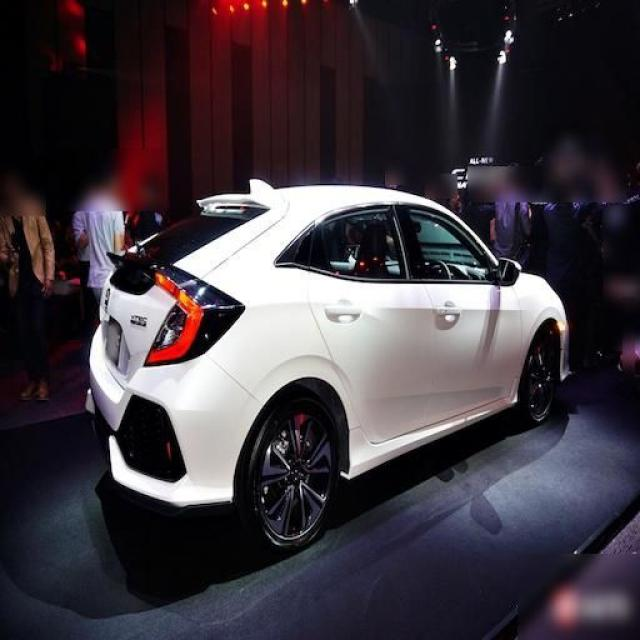back_bumper: (87, 280, 263, 508)
back_glass: (131, 206, 267, 264)
back_right_door: (307, 198, 438, 442)
back_right_light: (144, 265, 246, 366)
front_right_door: (399, 199, 522, 423)
right_mirror: (497, 257, 520, 287)
tailgate: (105, 194, 289, 386)
wheel: (237, 383, 343, 550), (516, 327, 560, 425)
